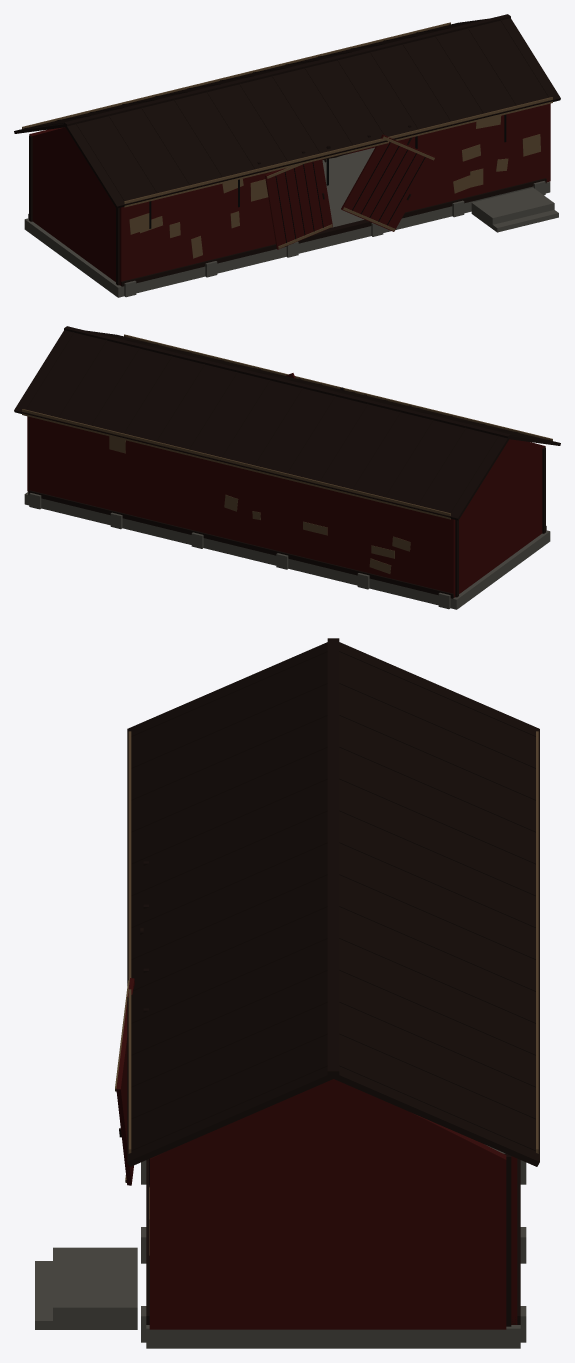
Rendered from DerelictFreightDepot.obj.
The picture shows the model from 3 angles, top to bottom: view 1: azimuth 30°, elevation 25°; view 2: azimuth 150°, elevation 25°; view 3: azimuth 270°, elevation 25°; orthographic projection. The views are drawn at different scales.
Visible parts, largest first — view 1: DerelictFreightDepot; view 2: DerelictFreightDepot; view 3: DerelictFreightDepot.
Part boxes in pixels (x1,y1,x2,y2): DerelictFreightDepot: [14, 14, 560, 297]; DerelictFreightDepot: [14, 326, 560, 609]; DerelictFreightDepot: [35, 638, 539, 1348].
Size of the model in its own units: 23 by 7.01 by 11.33.
